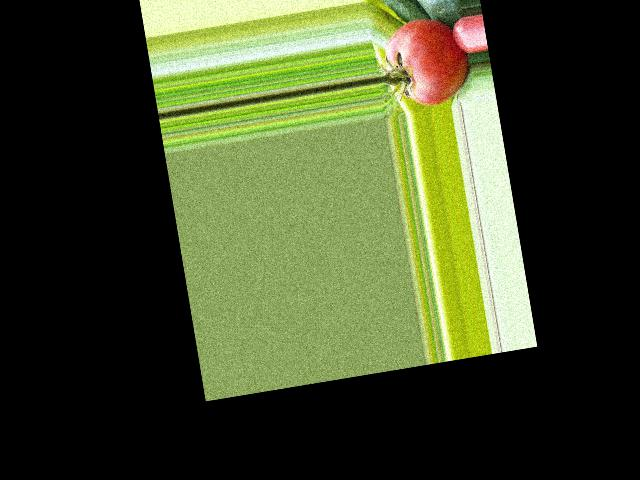tomato: (381, 13, 475, 111)
